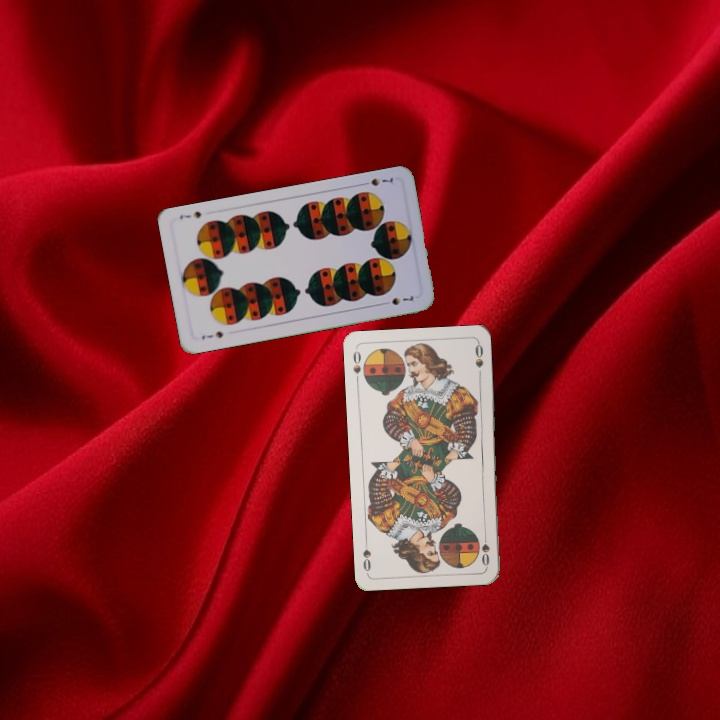S7: (357, 173, 396, 189), (198, 327, 226, 342)
SO: (349, 347, 364, 386), (478, 528, 492, 569)
